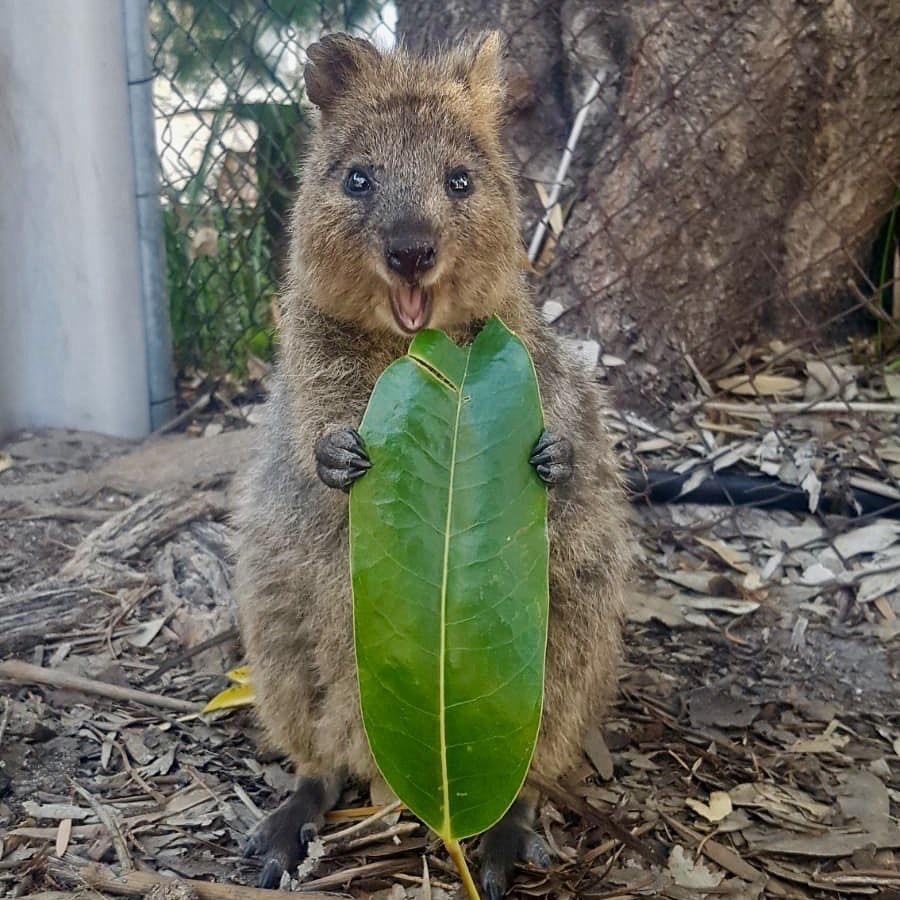quokka: (200, 12, 641, 888)
